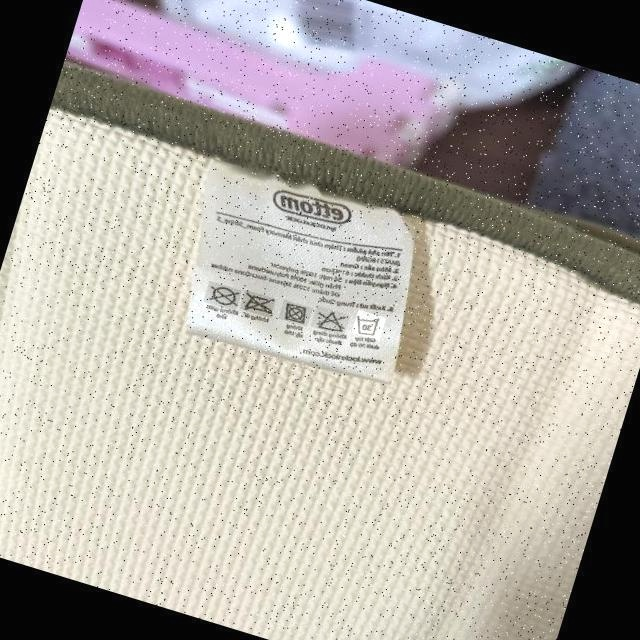30C: (353, 312, 380, 336)
DN_bleach: (314, 307, 345, 333)
DN_dry_clean: (204, 283, 239, 310)
DN_iron: (240, 290, 274, 315)
DN_tumble_dry: (281, 298, 308, 325)
